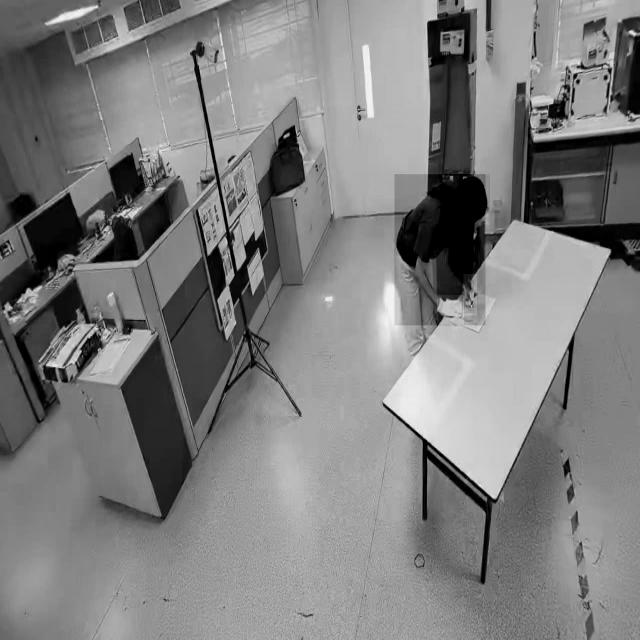hand_glove: (436, 295, 464, 327), (463, 274, 477, 316)
head_nohelmet: (460, 174, 490, 213)
person: (394, 174, 486, 326)
